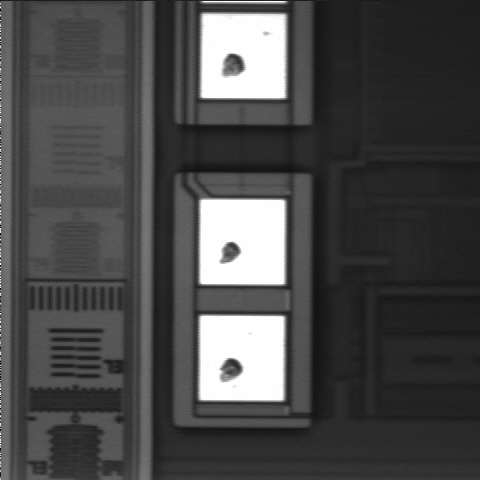pad: (200, 199, 285, 284), (201, 14, 285, 98), (200, 316, 284, 400)
